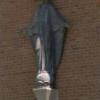Statue: (15, 10, 63, 100)
